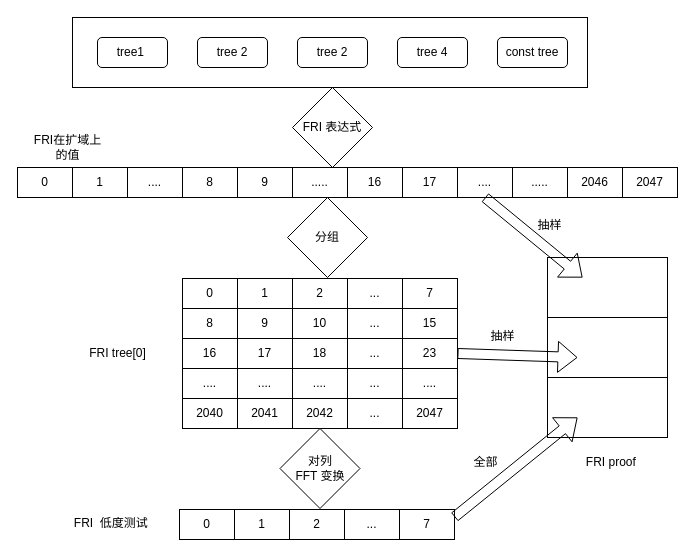
Image size: 695x557. Some labels were removed from this diagram. The shapes that lost their labels are listed below. From the top down, each one's box as (x1, y1, x2, y2) in pixels, then its label:
(546, 256, 668, 318): proof[0]
(546, 316, 668, 378): proof[1]
(546, 376, 668, 438): proof[2]
